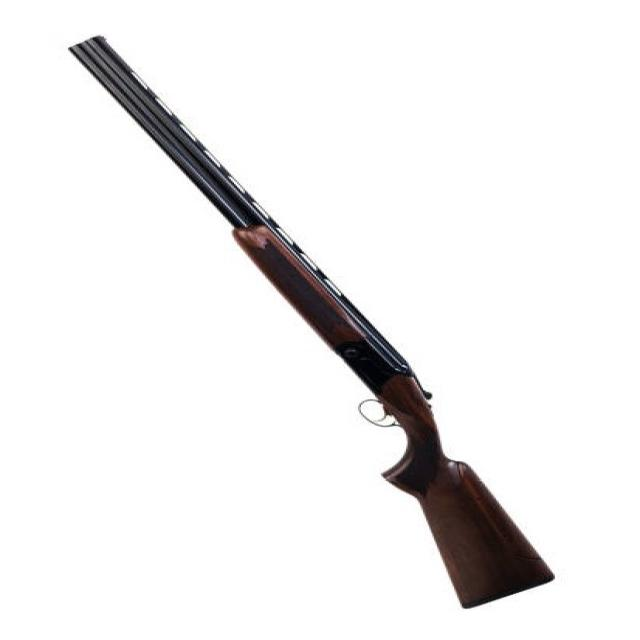rifle: (66, 28, 560, 611)
